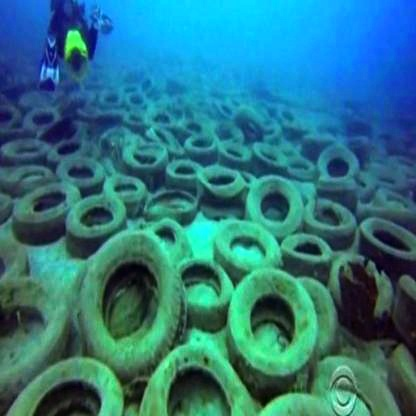tire: (77, 227, 174, 366), (229, 256, 312, 385), (128, 344, 250, 416), (2, 273, 72, 386), (2, 357, 124, 416), (166, 246, 235, 332), (326, 240, 390, 326), (62, 183, 127, 259), (6, 180, 77, 239), (241, 170, 304, 235), (359, 213, 416, 282), (254, 379, 354, 416), (216, 213, 276, 268), (140, 184, 187, 238), (303, 196, 352, 241), (276, 228, 324, 273), (203, 160, 247, 204), (60, 156, 105, 197), (167, 156, 214, 193), (280, 147, 321, 188), (320, 145, 358, 186), (213, 137, 264, 167), (104, 172, 149, 205), (2, 134, 45, 164), (22, 98, 56, 131), (256, 136, 288, 167), (128, 146, 171, 168), (176, 112, 210, 136), (182, 130, 212, 156), (120, 109, 152, 130), (147, 107, 178, 125)
